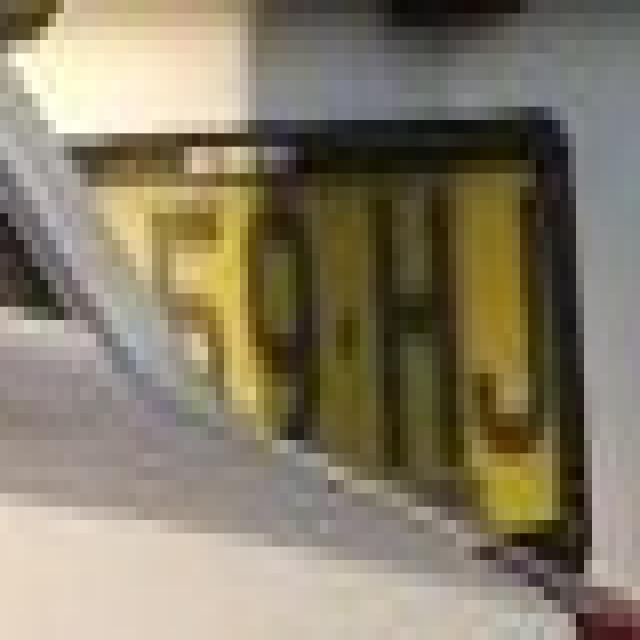licenseplate: (49, 76, 617, 576)
